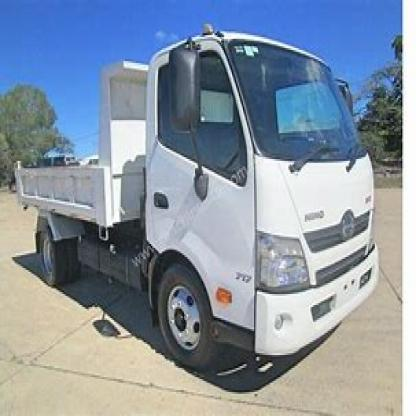dump_truck: (12, 20, 382, 372)
